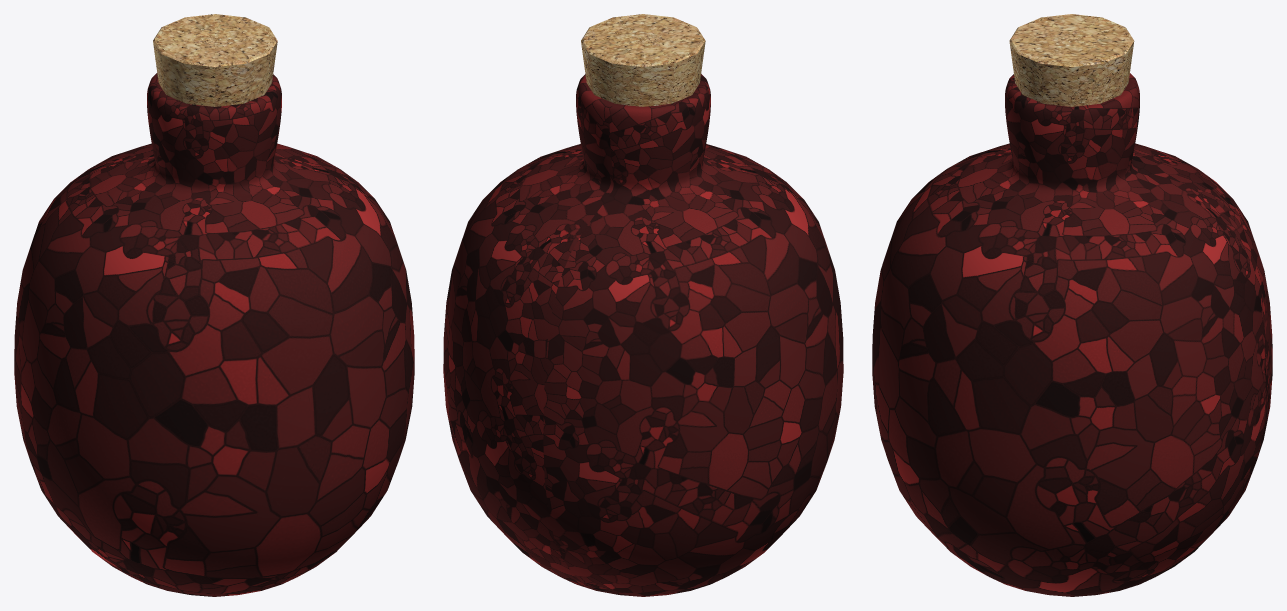
Rendered from NewBottle.fbx.
3 renders of one model, left to right at view 1: azimuth 30°, elevation 25°; view 2: azimuth 150°, elevation 25°; view 3: azimuth 270°, elevation 25°, orthographic.
Parts seen in each view (by area): view 1: BottleN, CorkN; view 2: BottleN, CorkN; view 3: BottleN, CorkN.
Boxes of the visible parts, x1,y1,x2,y2 form: BottleN: [14, 73, 414, 596]; CorkN: [153, 14, 277, 106]; BottleN: [443, 74, 843, 596]; CorkN: [581, 14, 705, 106]; BottleN: [872, 73, 1272, 596]; CorkN: [1009, 14, 1134, 106].
Bounding box in the file's own units: 48.26 × 71.05 × 48.46.
